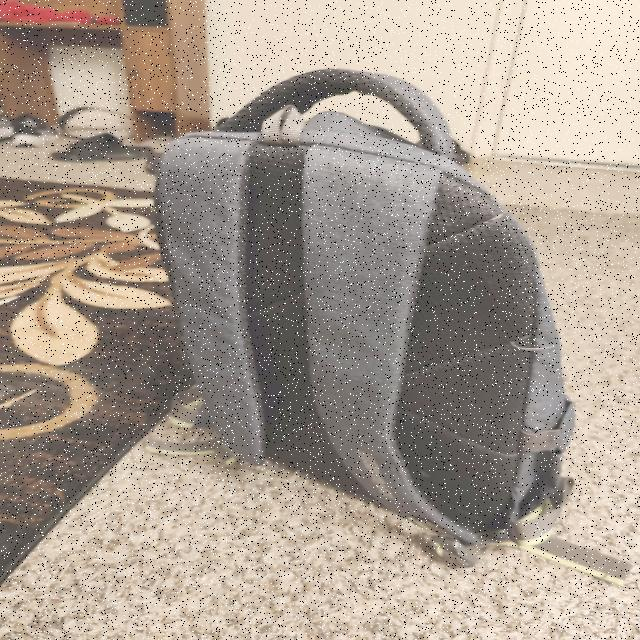bag: (157, 68, 544, 532)
